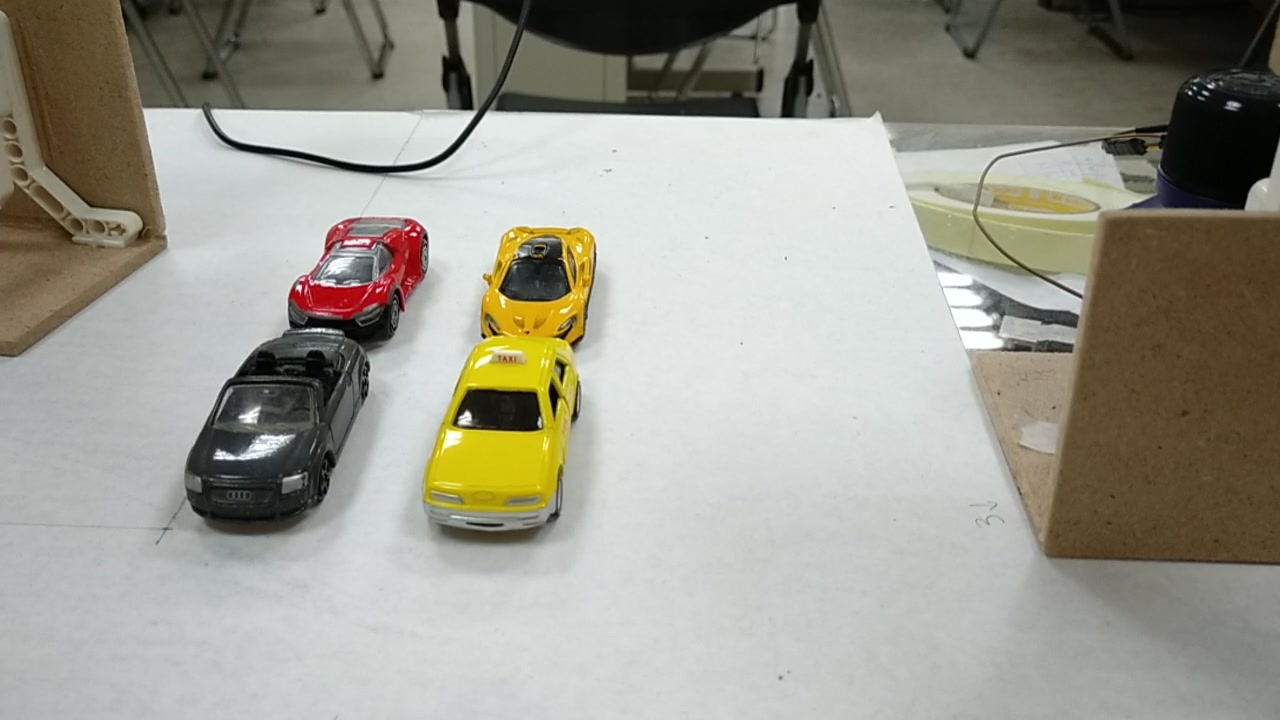car: (184, 329, 376, 523), (422, 337, 580, 530), (291, 225, 437, 327), (484, 224, 606, 331)
